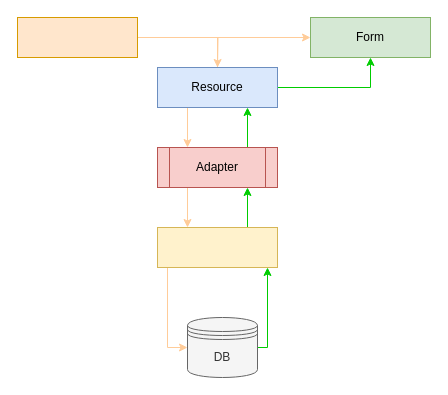
This 448x395 diagram has some shape labels left out. The box of each missing label's shape, as (x1, y1, x2, y2) in pixels:
Command: (156, 226, 278, 268)
Model: (16, 16, 138, 58)
